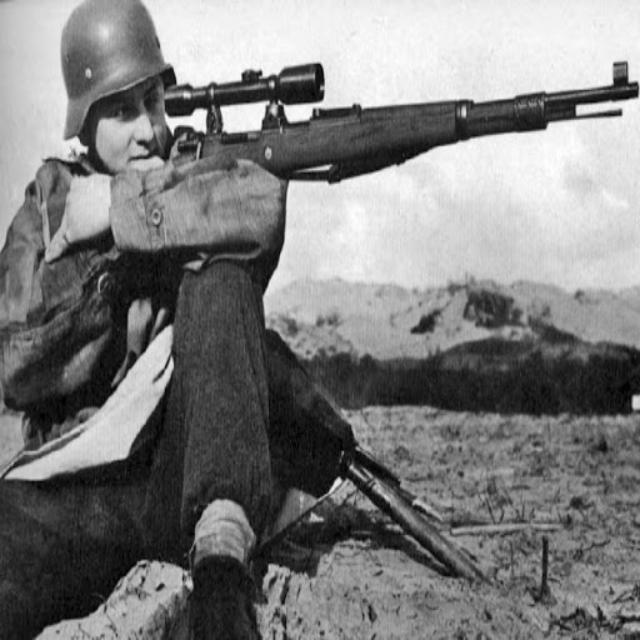other: (0, 0, 314, 630)
